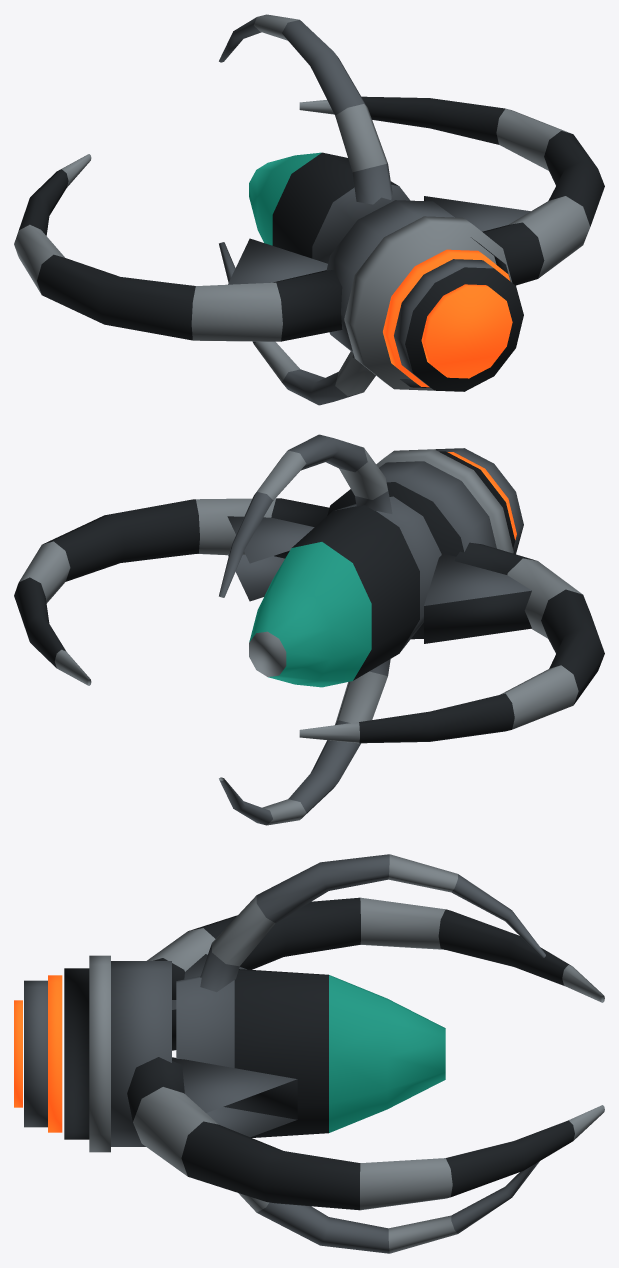
The model's file is DRONE_v2.glb.
3 views of the same model, one above another, from view 1: azimuth 30°, elevation 25°; view 2: azimuth 150°, elevation 25°; view 3: azimuth 270°, elevation 25° (orthographic). The views are drawn at different scales.
Parts seen in each view (by area): view 1: DRONE_BLADES, DRONE_BODY; view 2: DRONE_BODY, DRONE_BLADES; view 3: DRONE_BODY, DRONE_BLADES.
Part boxes in pixels (x1,y1,x2,y2): DRONE_BLADES: [14, 14, 604, 405]; DRONE_BODY: [228, 152, 530, 391]; DRONE_BODY: [227, 448, 531, 687]; DRONE_BLADES: [14, 434, 604, 825]; DRONE_BODY: [14, 954, 445, 1152]; DRONE_BLADES: [127, 854, 604, 1253].
Size of the model in its own units: 0.7279 by 0.471 by 0.6417.
